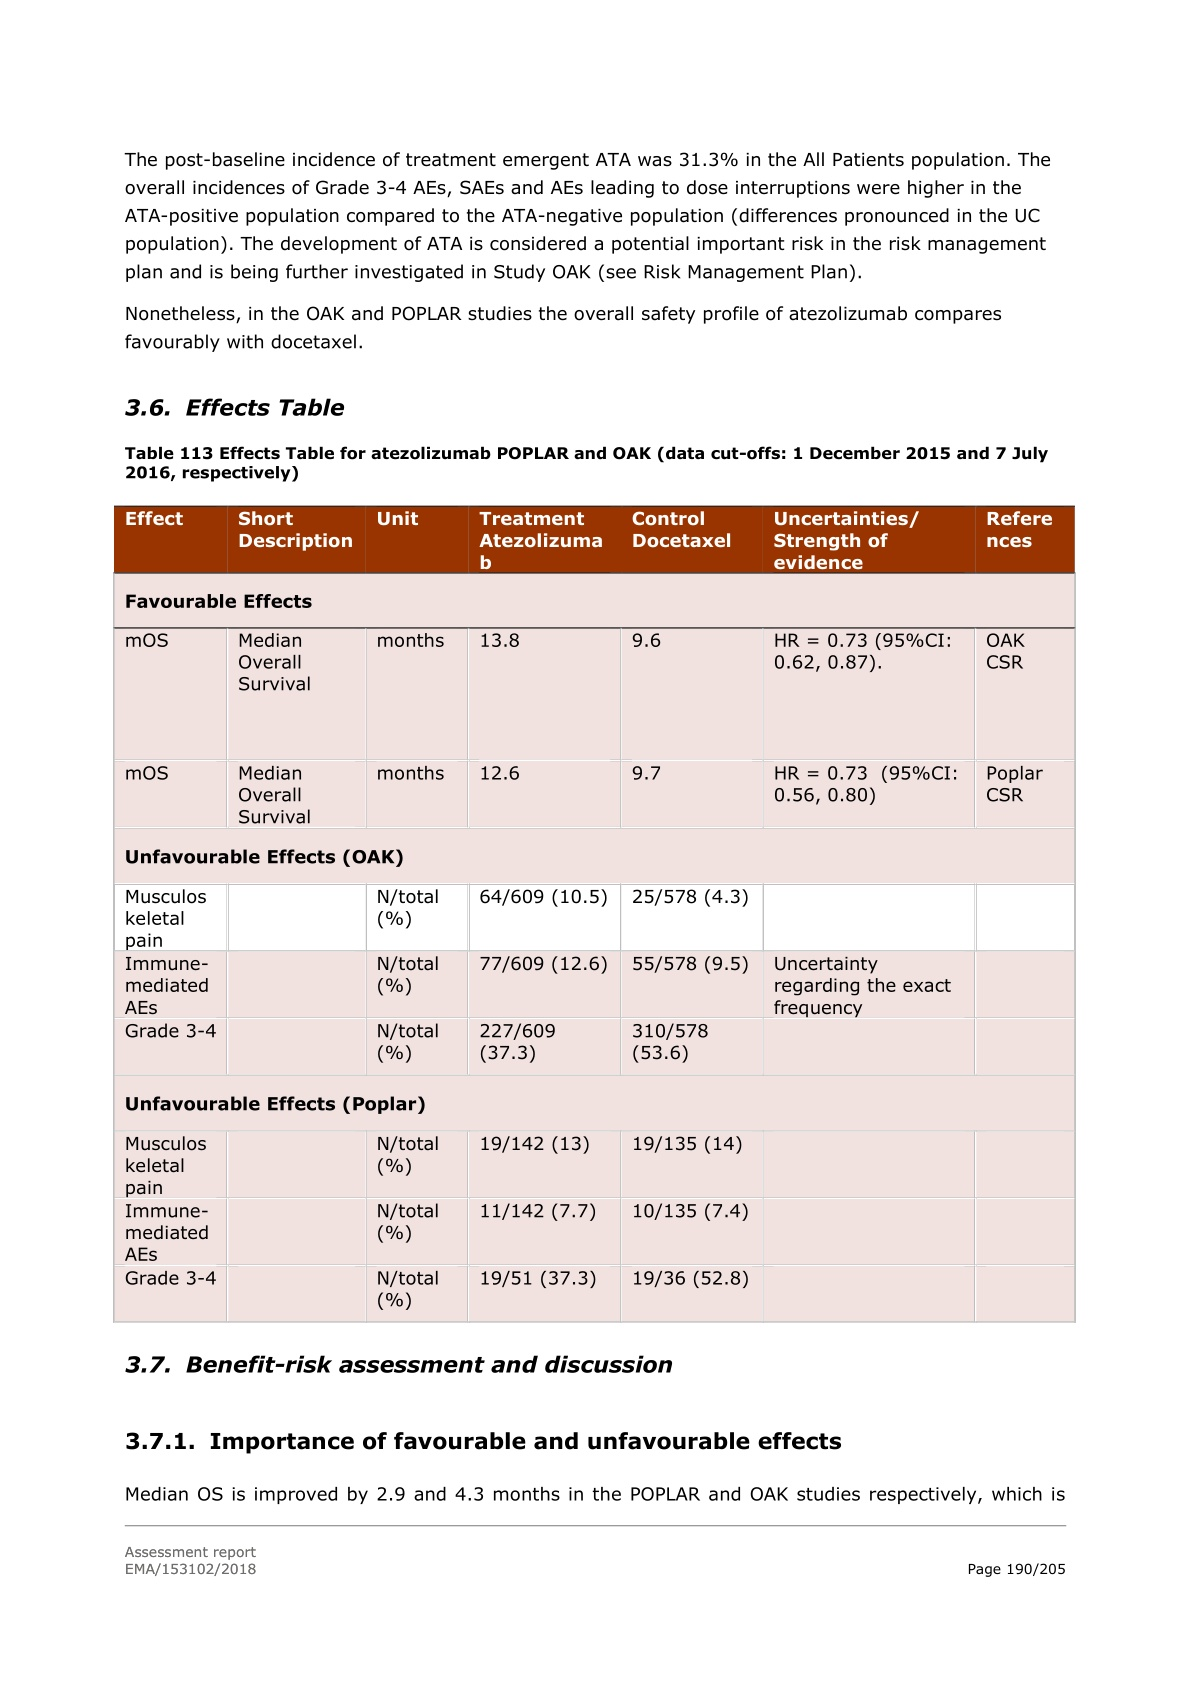merged_cells: (113, 505, 1078, 1325)
